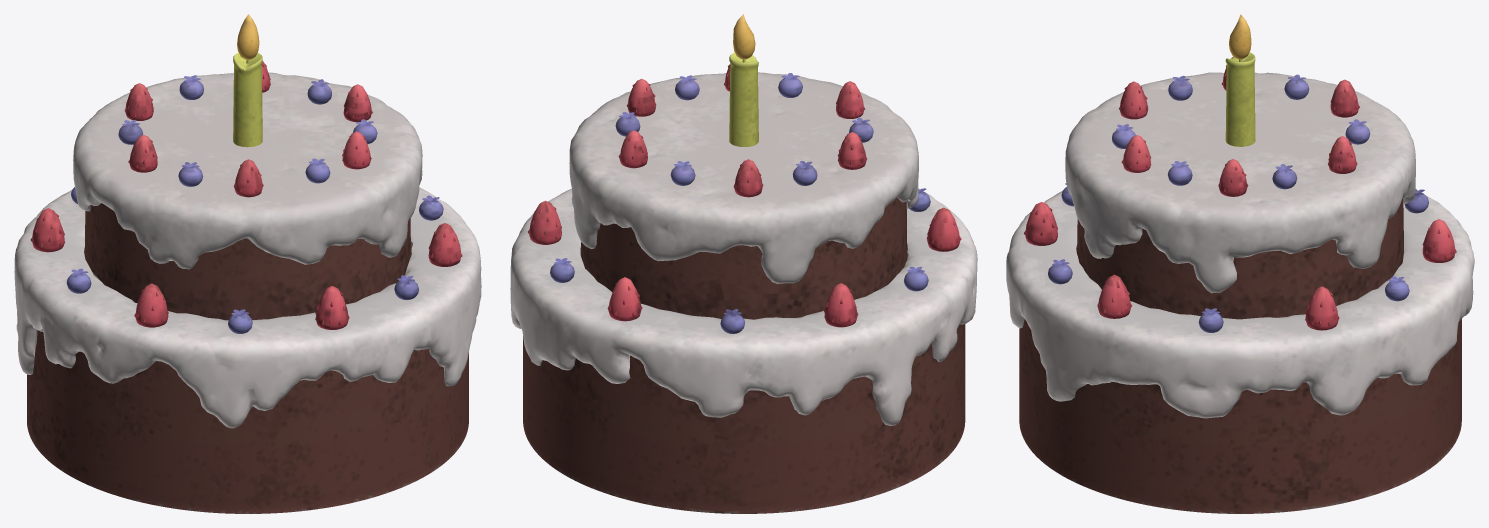
File: Cake.fbx
3 renders of one model, left to right at view 1: azimuth 30°, elevation 25°; view 2: azimuth 150°, elevation 25°; view 3: azimuth 270°, elevation 25°, orthographic.
Parts seen in each view (by area): view 1: Birthday Cake; view 2: Birthday Cake; view 3: Birthday Cake.
Part boxes in pixels (x1=…): Birthday Cake: x1=14, y1=14, x2=481, y2=513; Birthday Cake: x1=510, y1=14, x2=977, y2=513; Birthday Cake: x1=1006, y1=14, x2=1474, y2=513.
Size of the model in its own units: 30.79 by 29.47 by 30.77.
Materials: 6 (6 with a texture image).
